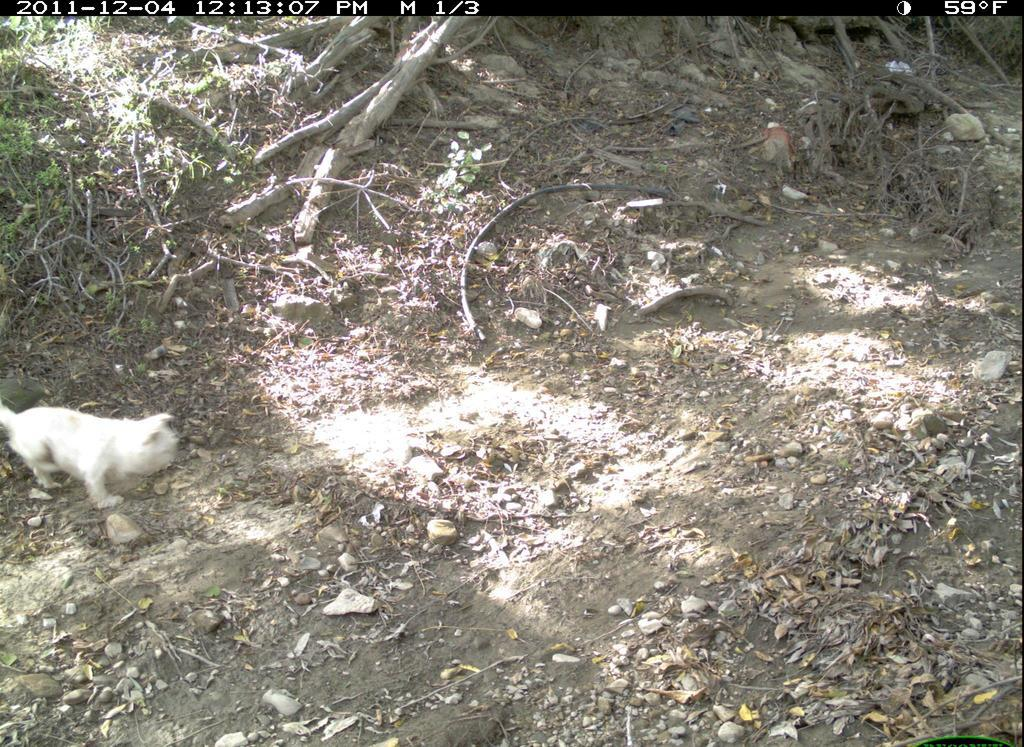dog: (4, 393, 190, 522)
